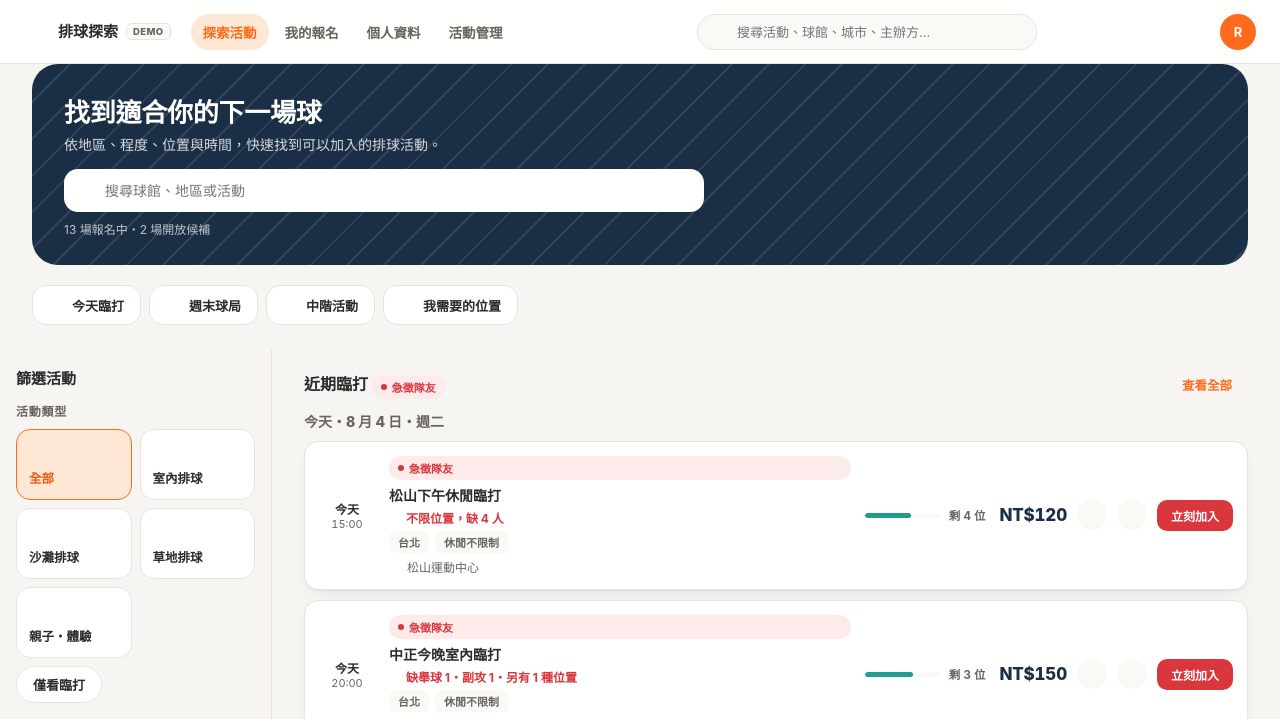
Explore — 我需要的位置 quick entry › applies the filter directly with no dialog when the profile already has a real default position
What coordinates should you click on to do the following:
click the button "我需要的位置"
I would click on:
 (450, 305)
Its box is [383,285,518,325].
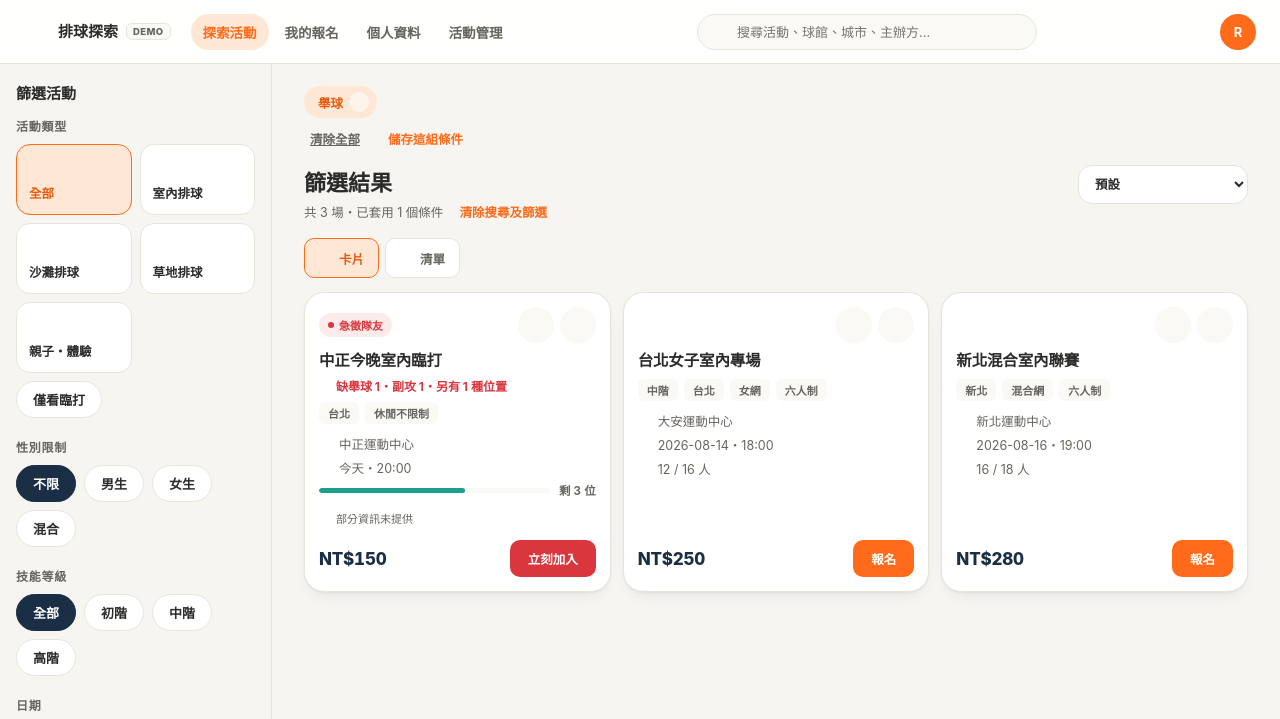
Check: the button with aria-label "移除舉球篩選" is shown, box [304,86,377,118]
